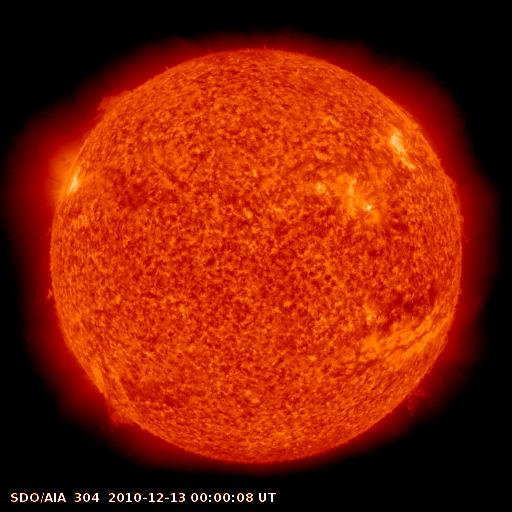prominence: (97, 383, 149, 436), (394, 374, 449, 422), (445, 171, 479, 246), (89, 83, 139, 121)
